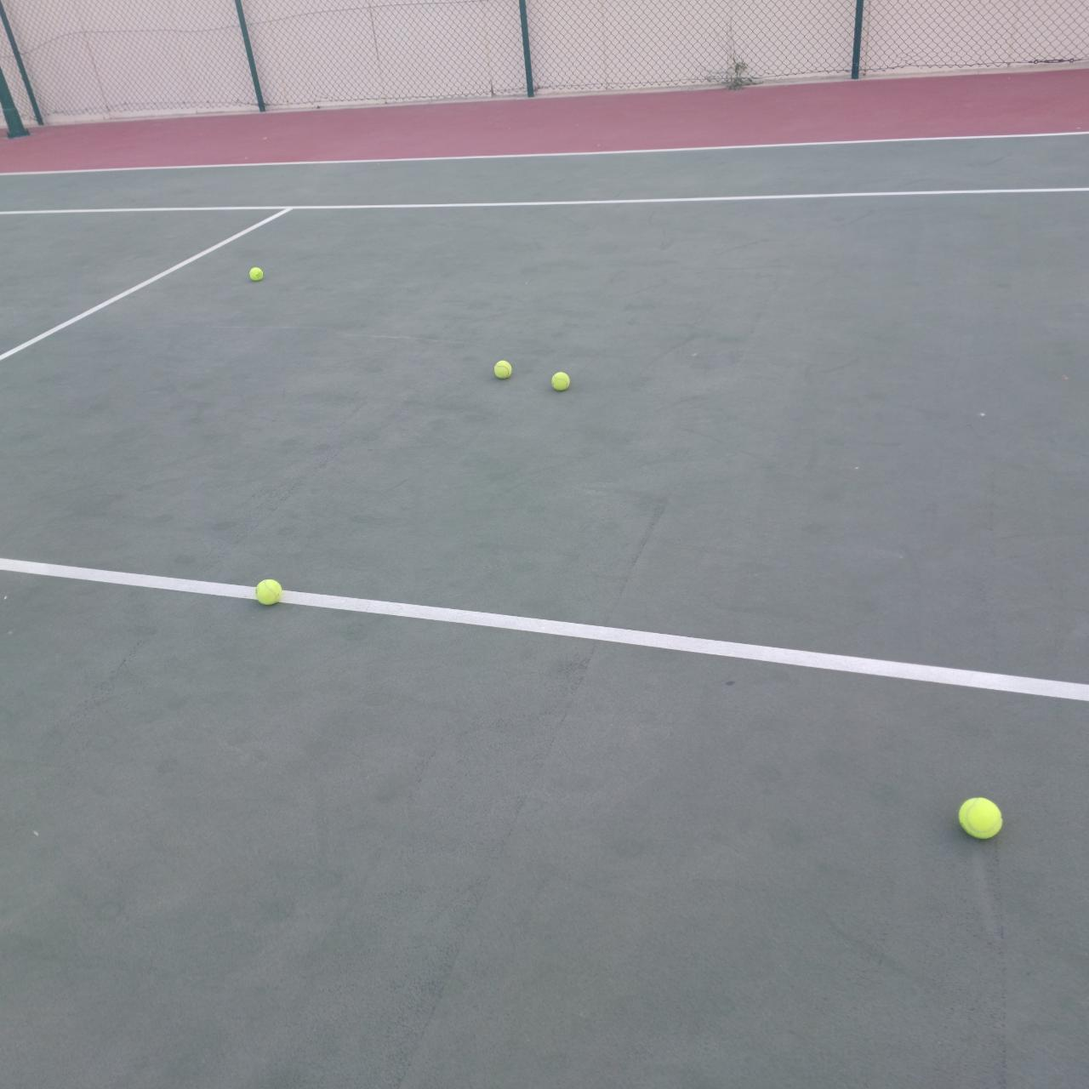tennis-ball: (956, 794, 1003, 840), (254, 576, 282, 605), (550, 368, 570, 391), (492, 358, 512, 379), (247, 265, 264, 282)
